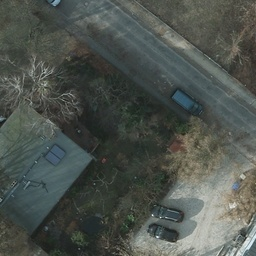car: (172, 88, 204, 117), (150, 207, 182, 221), (146, 227, 178, 241)
